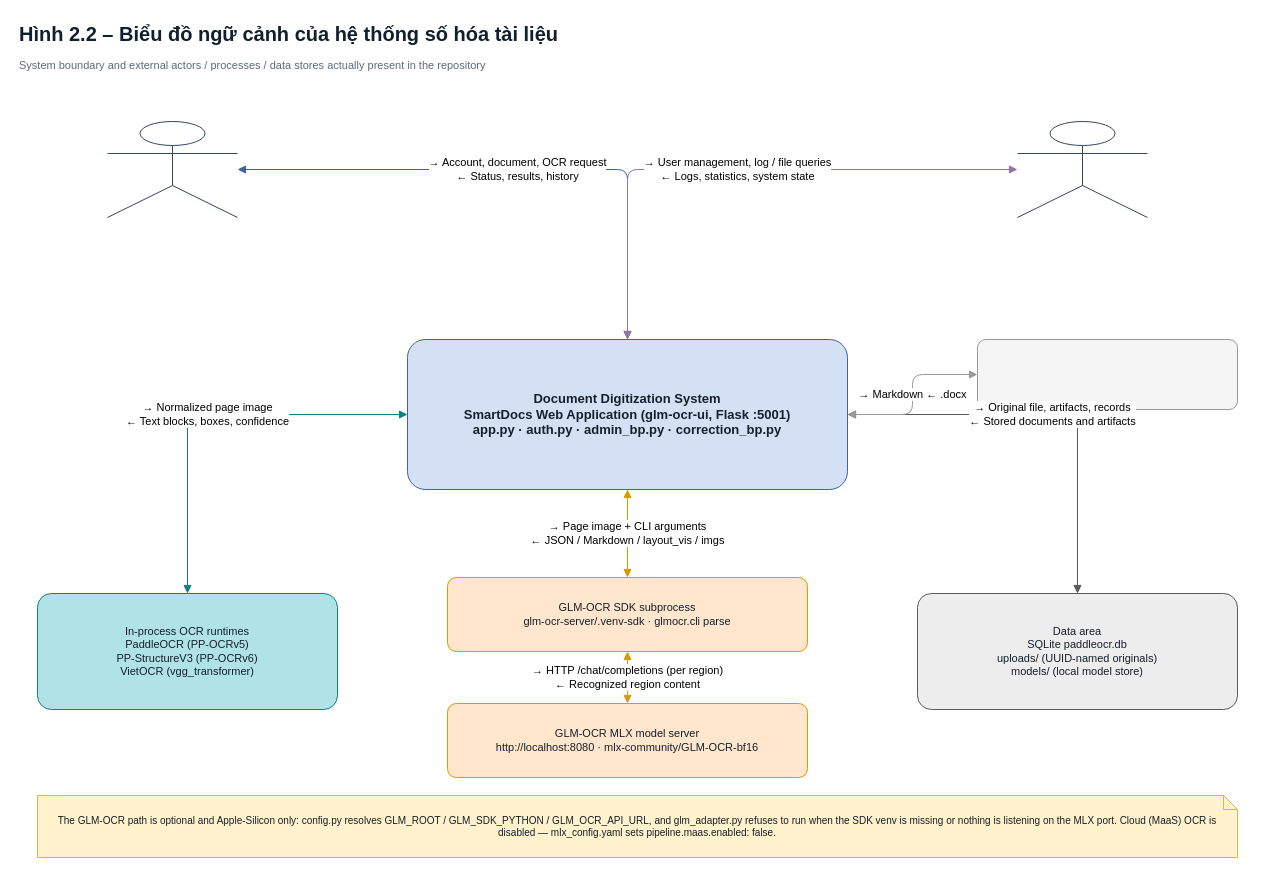
Some shapes in this 1274 by 875 pixel diagram are drawn without their labels. Here are the shapes that lost their labels. From the top down, the box of each, then its label:
(106, 120, 238, 218): User
(1016, 120, 1148, 218): Administrator
(976, 338, 1238, 410): pandoc executable (Markdown → DOCX export)
